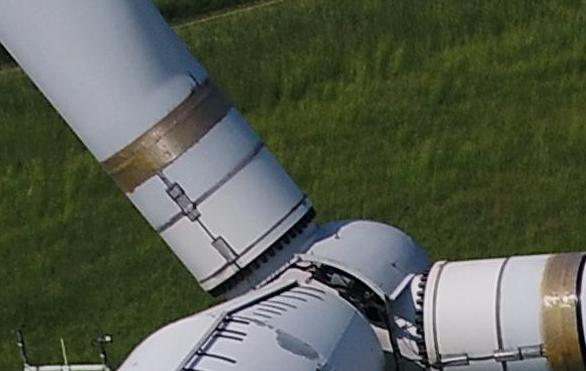damage: (275, 329, 321, 359)
